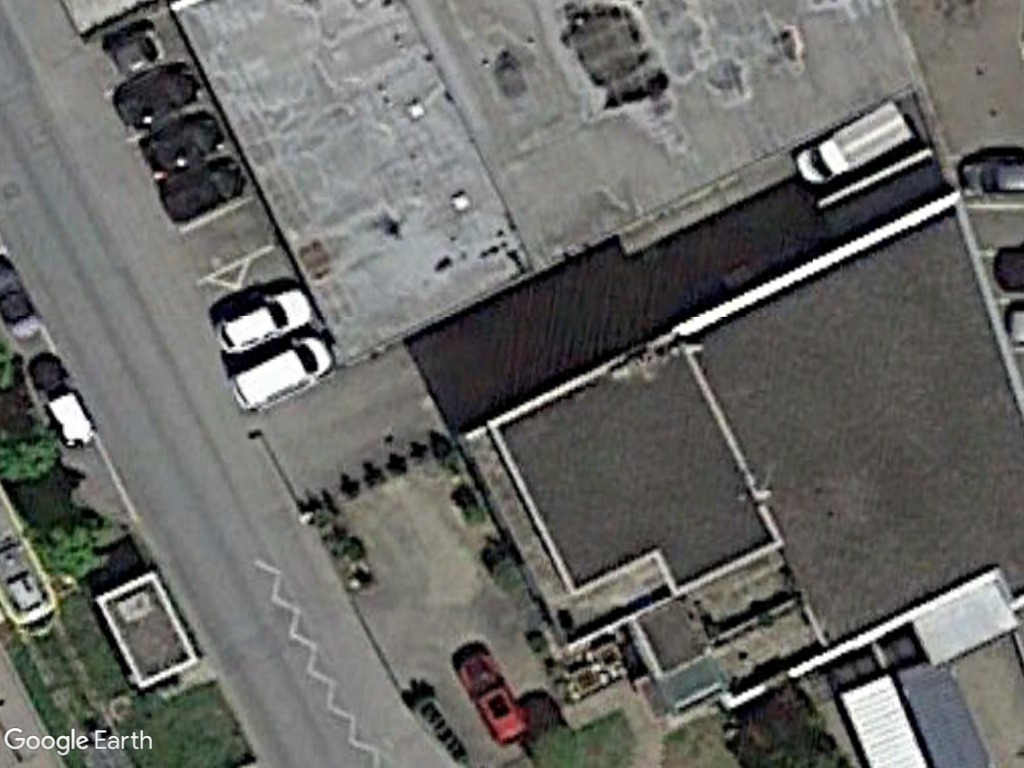car: (227, 332, 333, 418), (215, 283, 315, 357)
truck: (791, 95, 918, 191)
